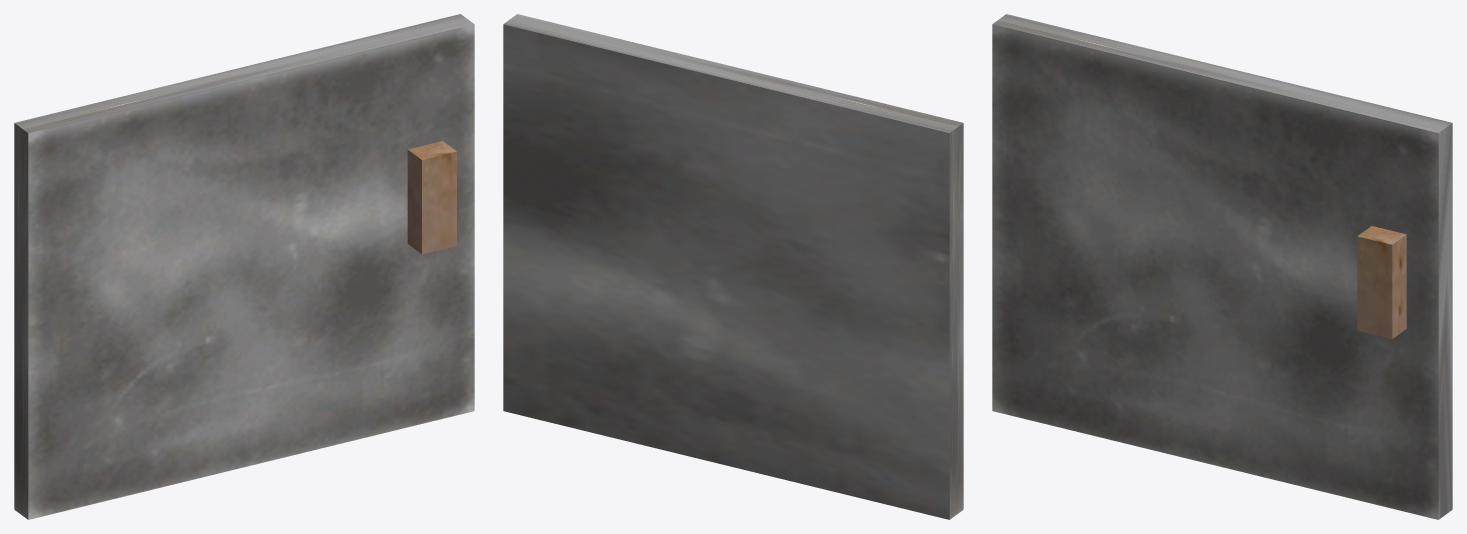
File: puerta.obj
The picture shows the model from 3 angles, left to right: view 1: azimuth 30°, elevation 25°; view 2: azimuth 150°, elevation 25°; view 3: azimuth 330°, elevation 25°; orthographic projection.
Visible parts, largest first — view 1: polySurface21; view 2: polySurface21; view 3: polySurface21.
Boxes of the visible parts, x1,y1,x2,y2 form: polySurface21: (14,14,474,519); polySurface21: (503,14,963,519); polySurface21: (992,14,1452,519).
Bounding box in the file's own units: 0.8923 × 0.7389 × 0.0984.
Materials: 2 (2 with a texture image).
